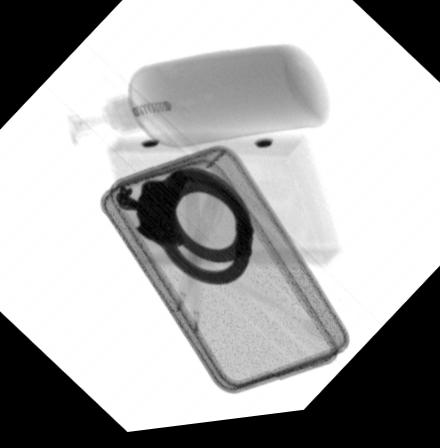HandCuffs: (115, 172, 252, 295)
